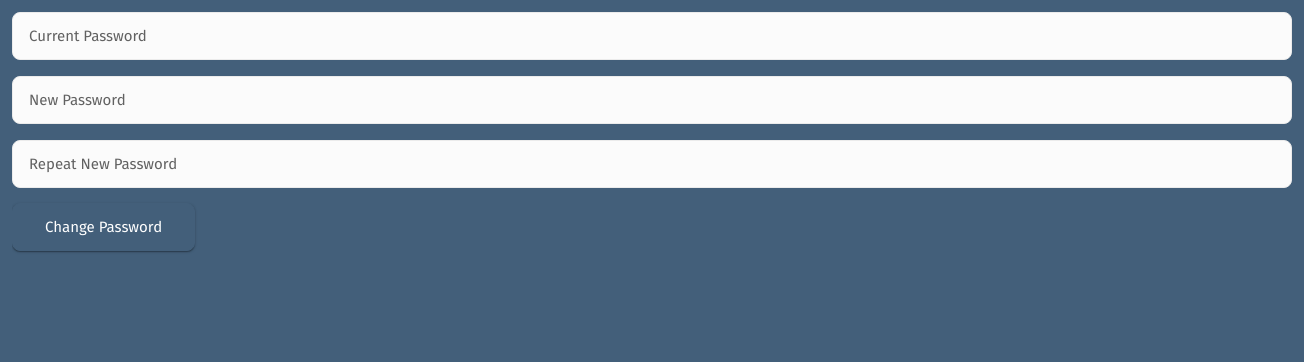
Test: PasswordChanging › displays potential errors
This screenshot has width=1304, height=362.
Type "supersecret" into the password field labelled "Current Password" at [652, 36], box x1=12 y1=12 x2=1292 y2=60
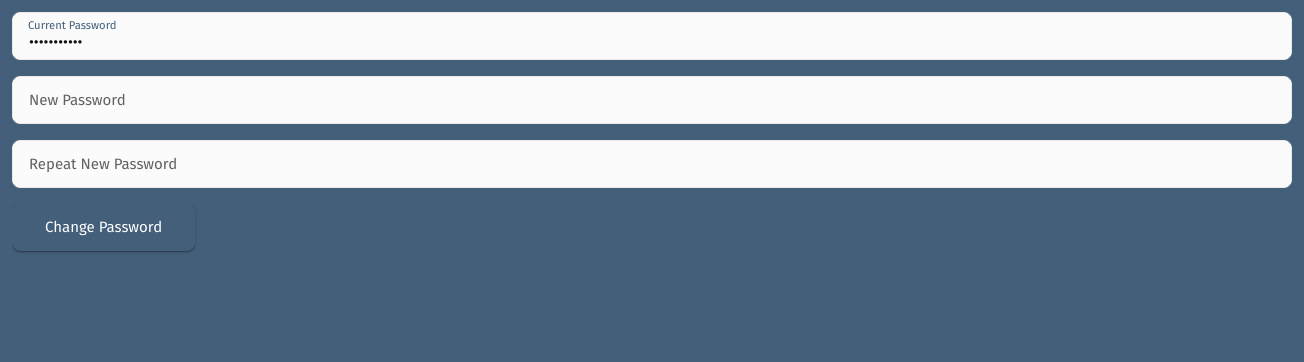
Type "timeforachange" into the password field labelled "New Password" at [652, 100], box x1=12 y1=76 x2=1292 y2=124
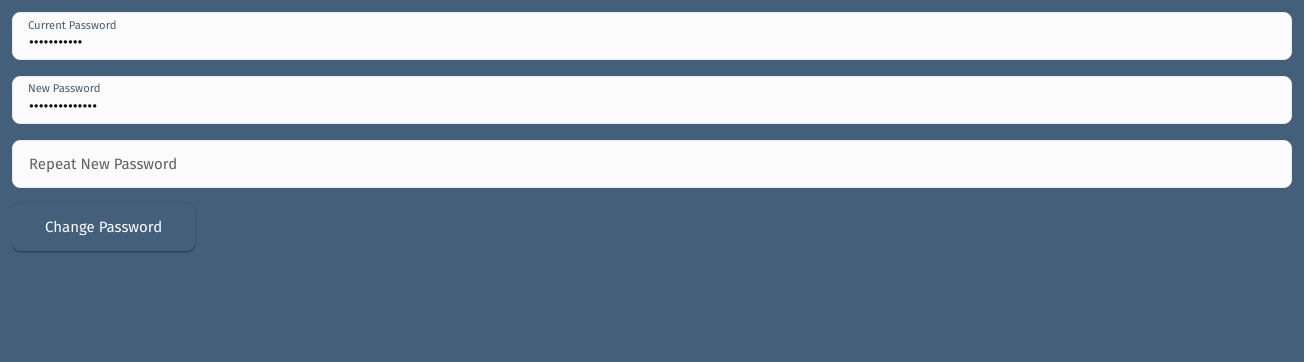
Type "timeforachange" into the password field labelled "Repeat New Password" at [652, 164], box x1=12 y1=140 x2=1292 y2=188
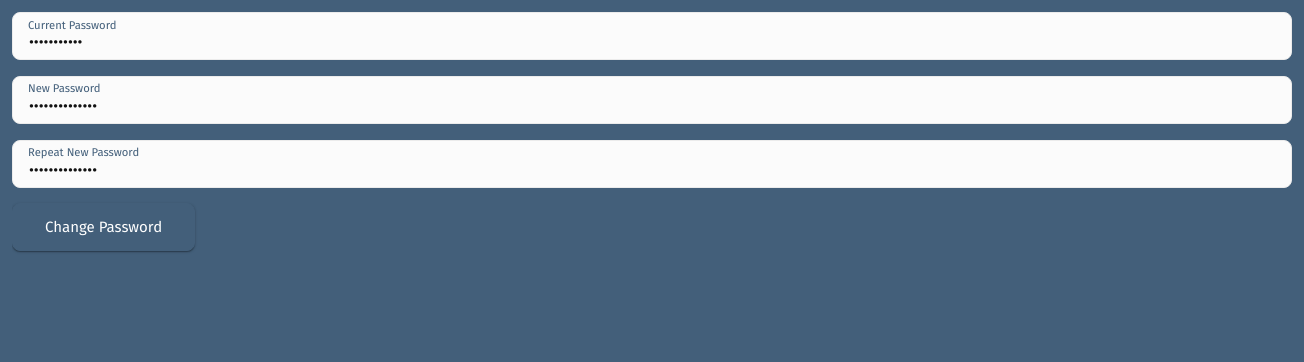
Click the button at [104, 227], box x1=12 y1=203 x2=195 y2=251
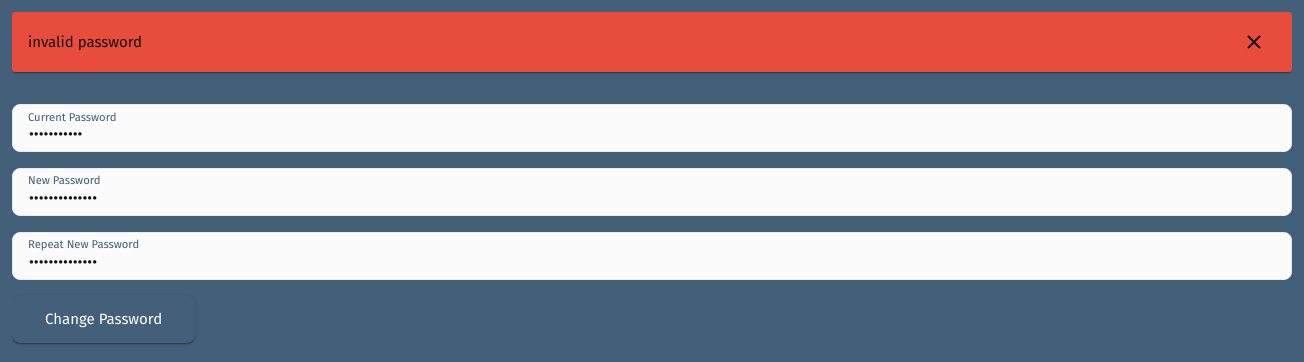
Expected: the text "invalid password" is shown, x1=12 y1=12 x2=1292 y2=72
